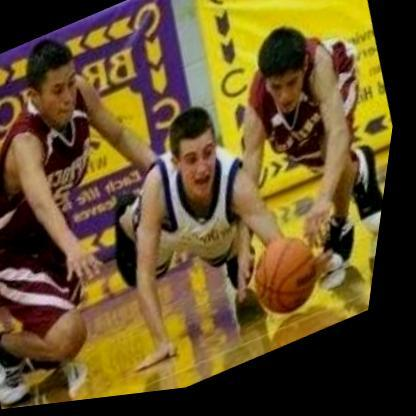basketball: (240, 226, 347, 340)
